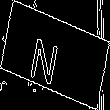N_N: (37, 25, 73, 85)
